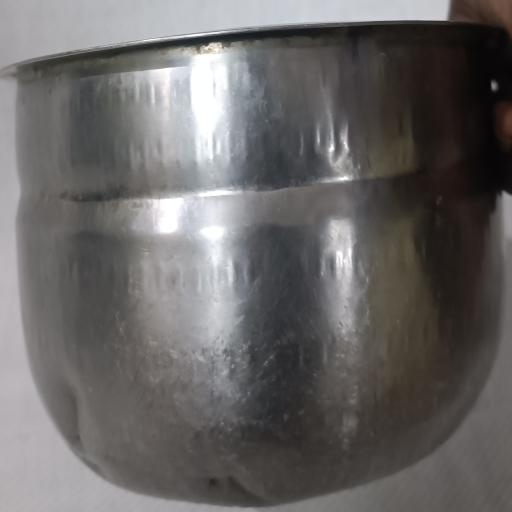vessel: (7, 23, 505, 505)
